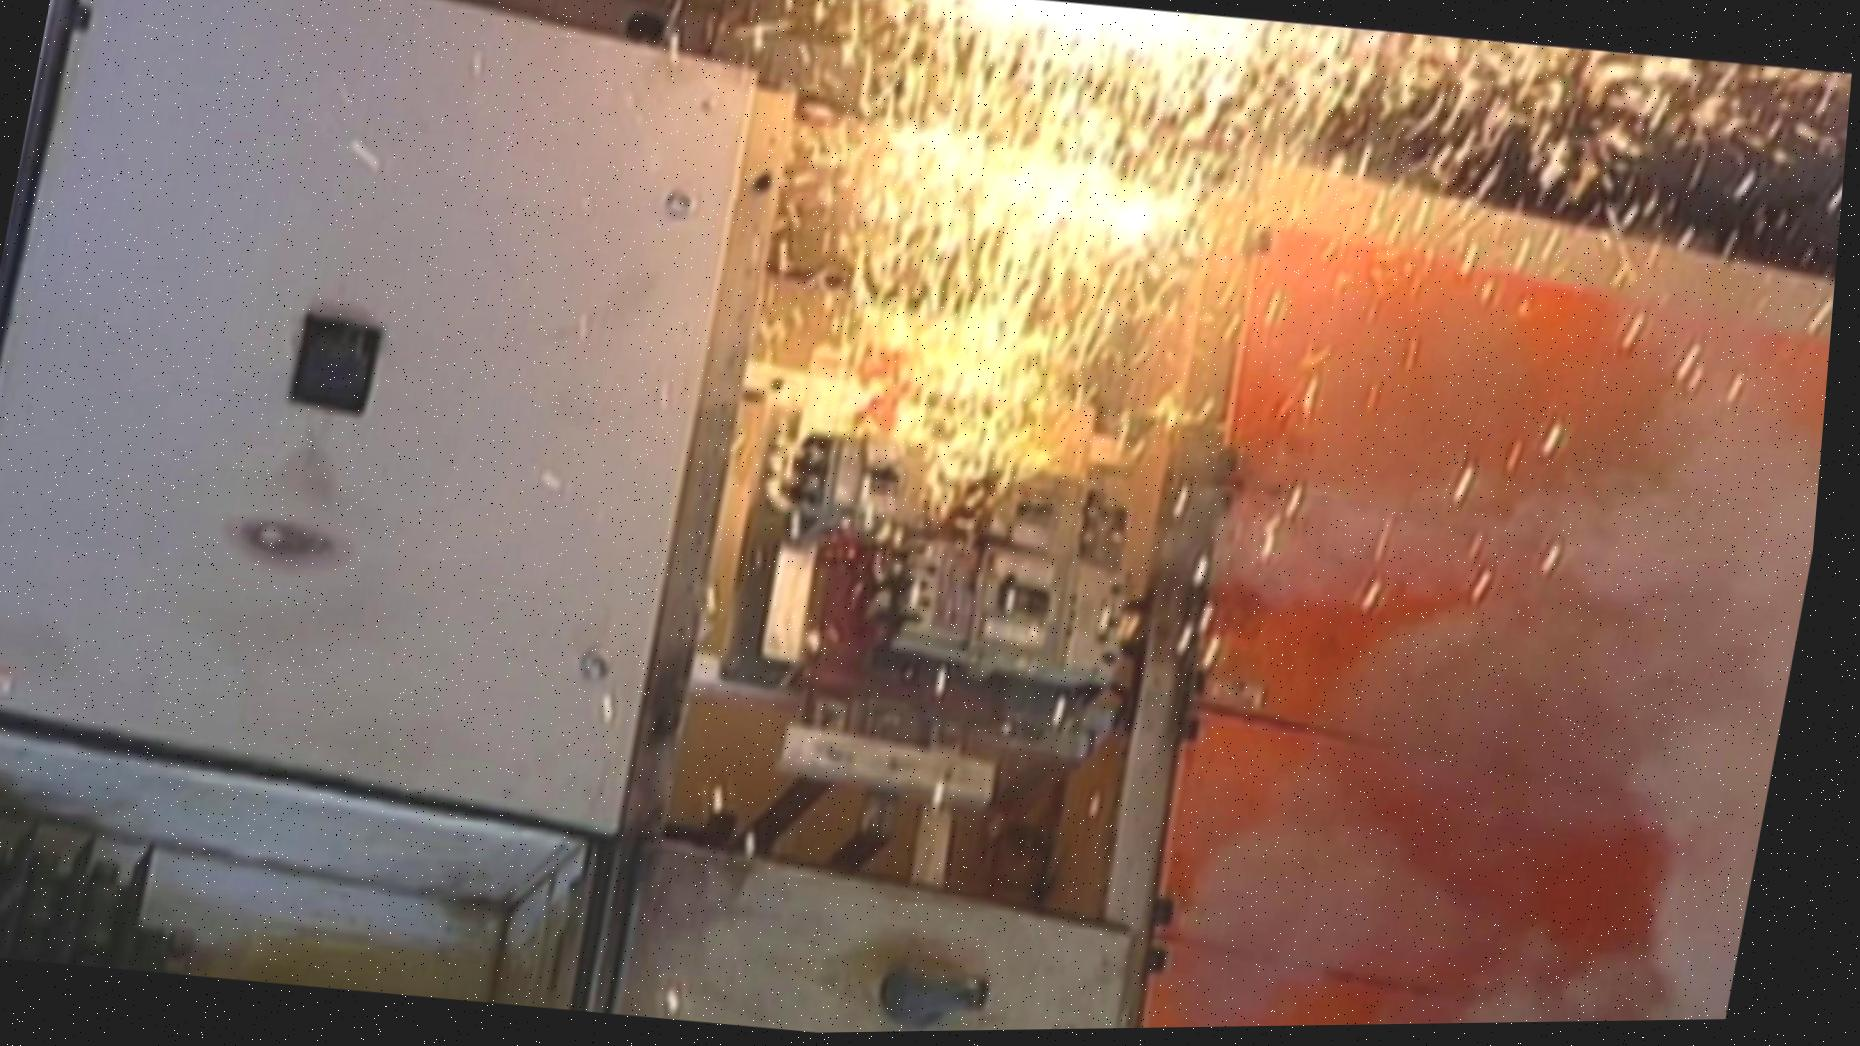fire: (568, 34, 1474, 614)
